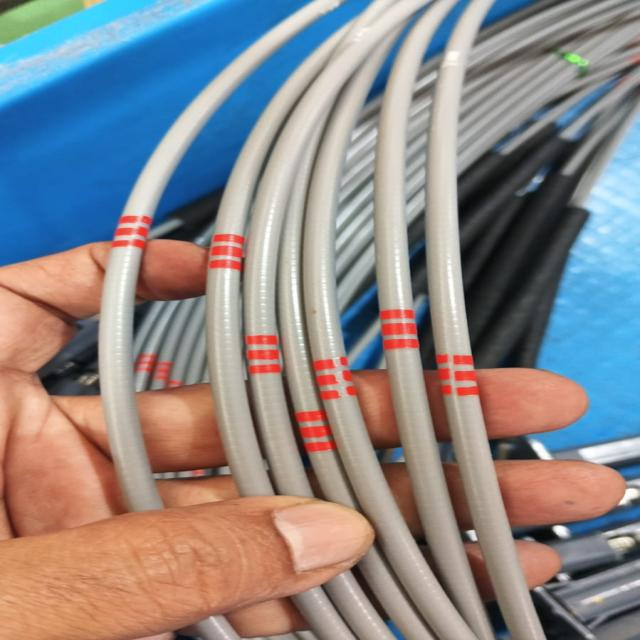red: (291, 408, 342, 454), (433, 352, 482, 396), (314, 360, 362, 399), (382, 308, 422, 353), (244, 335, 282, 373), (118, 215, 154, 251), (210, 234, 246, 270)
